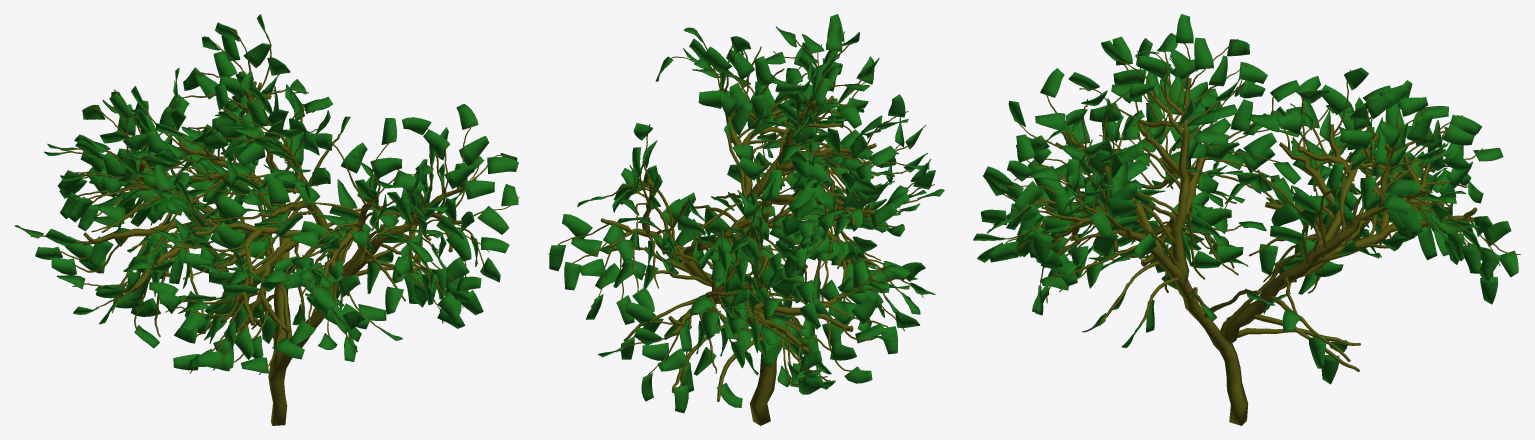
The model's file is arbolito 3.fbx.
The picture shows the model from 3 angles, left to right: view 1: azimuth 30°, elevation 25°; view 2: azimuth 150°, elevation 25°; view 3: azimuth 270°, elevation 25°; orthographic projection. The views are drawn at different scales.
Parts seen in each view (by area): view 1: birchBlowingLight1Leaf, birchBlowingLight1Main; view 2: birchBlowingLight1Leaf, birchBlowingLight1Main; view 3: birchBlowingLight1Leaf, birchBlowingLight1Main.
Boxes of the visible parts, bbox=[...] form: birchBlowingLight1Leaf: bbox=[14, 14, 518, 373]; birchBlowingLight1Main: bbox=[30, 27, 519, 425]; birchBlowingLight1Leaf: bbox=[549, 14, 944, 413]; birchBlowingLight1Main: bbox=[548, 31, 934, 425]; birchBlowingLight1Leaf: bbox=[973, 14, 1518, 384]; birchBlowingLight1Main: bbox=[988, 37, 1520, 425].
Bounding box in the file's own units: 445 × 451 × 583.
